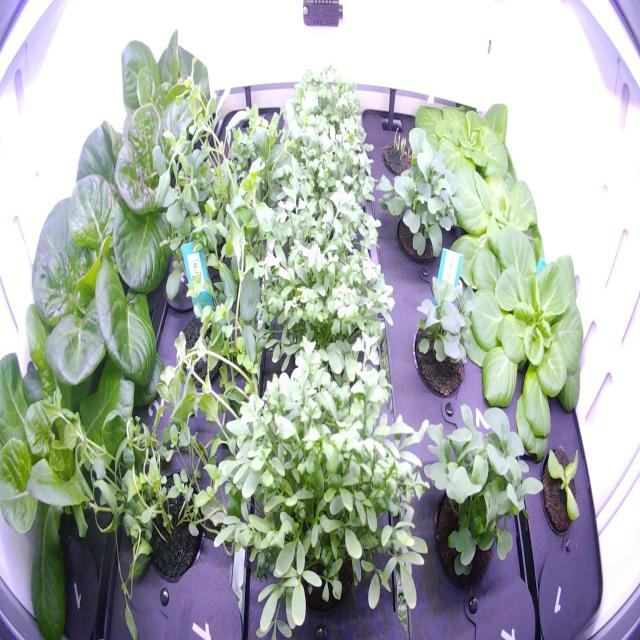Ready: (7, 172, 196, 454), (0, 323, 151, 636), (66, 57, 231, 304), (107, 10, 219, 174)
young: (442, 223, 596, 469), (432, 146, 561, 287), (404, 82, 528, 202), (531, 436, 589, 548)
